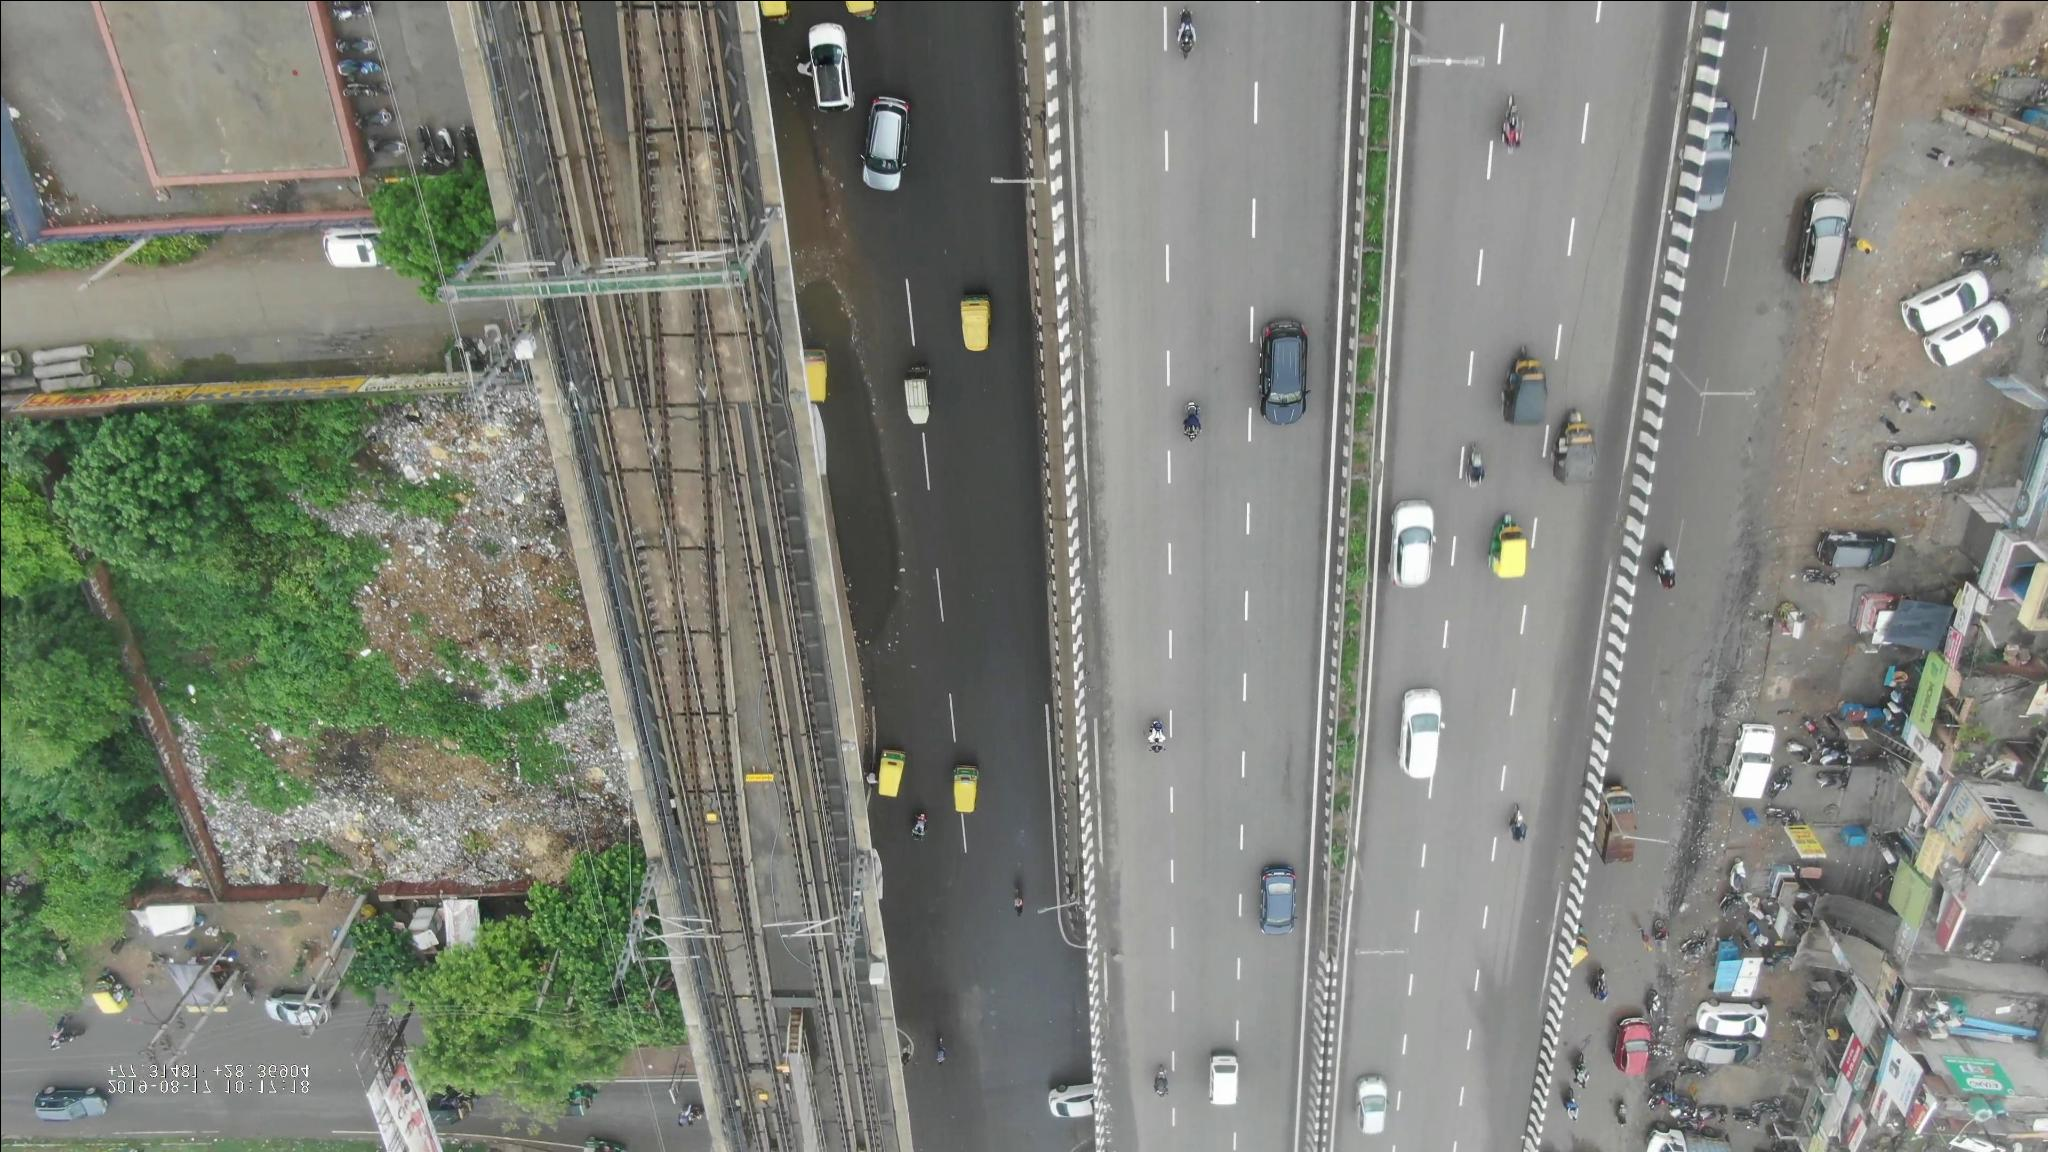Muddy_road: (1656, 684, 1744, 904), (1712, 515, 1784, 670)
Waterlogging: (779, 270, 909, 667), (771, 108, 848, 257)
